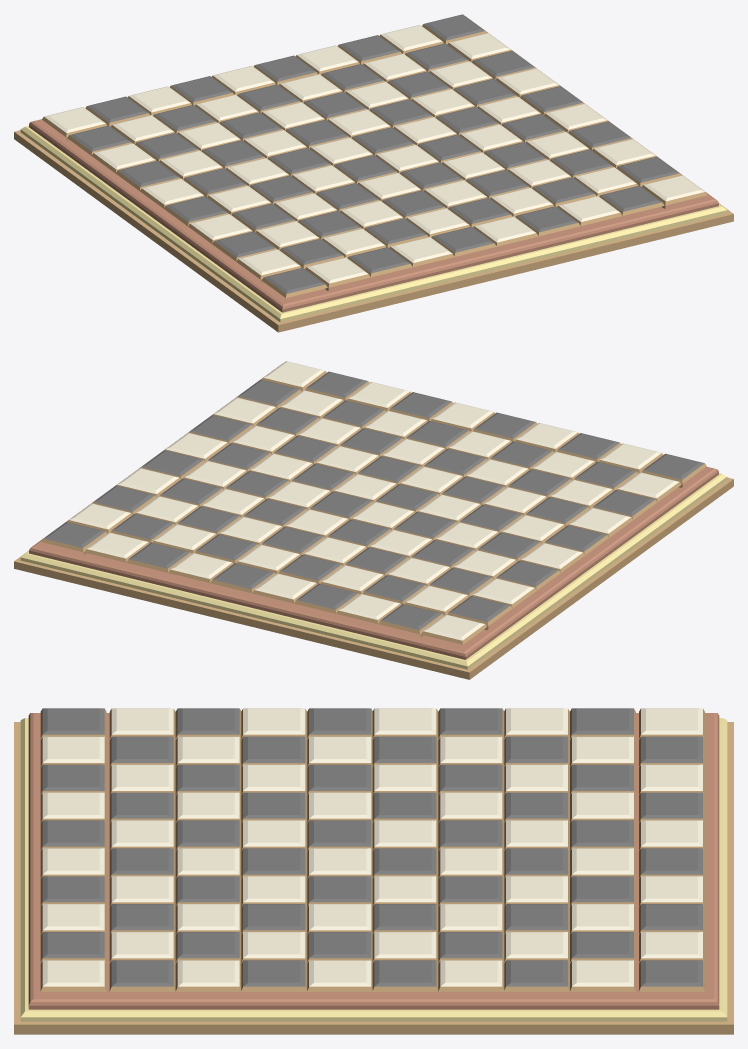
The picture shows the model from 3 angles, top to bottom: view 1: azimuth 30°, elevation 25°; view 2: azimuth 150°, elevation 25°; view 3: azimuth 270°, elevation 25°; orthographic projection. The views are drawn at different scales.
Parts seen in each view (by area): view 1: Cube; view 2: Cube; view 3: Cube.
Boxes of the visible parts, left/top/right/bottom form: Cube: left=14, top=14, right=733, bottom=332; Cube: left=14, top=361, right=733, bottom=679; Cube: left=14, top=708, right=733, bottom=1034.
Bounding box in the file's own units: 2165 × 126 × 2177.
